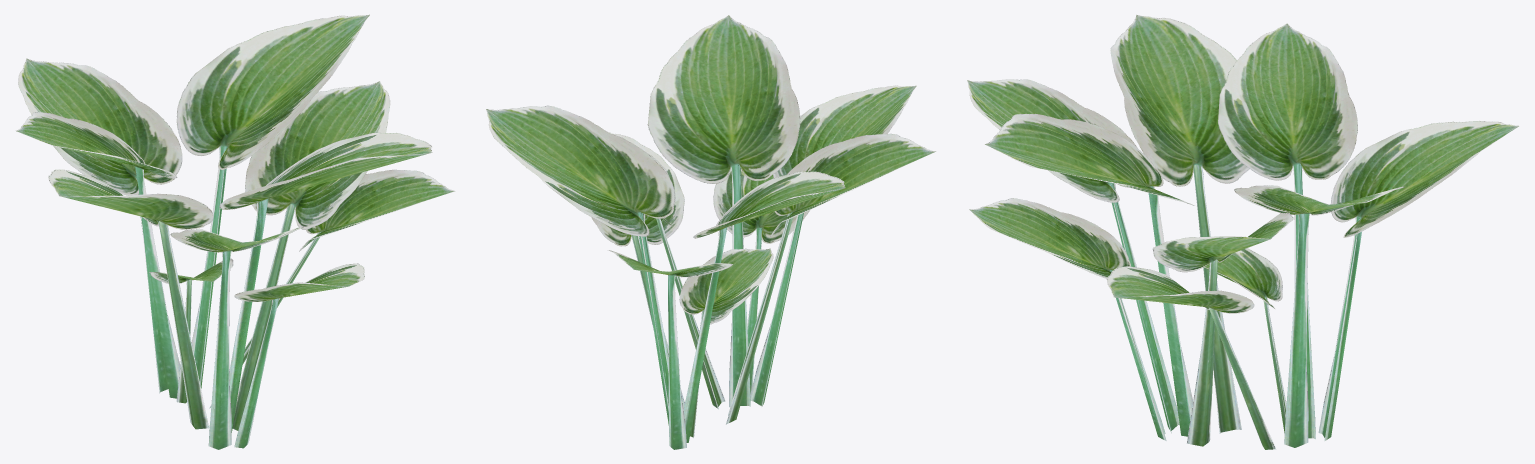
File: plant_small_wg_05G.fbx
3 renders of one model, left to right at view 1: azimuth 30°, elevation 25°; view 2: azimuth 150°, elevation 25°; view 3: azimuth 270°, elevation 25°, orthographic. The views are drawn at different scales.
Visible parts, largest first — view 1: plant_small_wg_05G; view 2: plant_small_wg_05G; view 3: plant_small_wg_05G.
Part boxes in pixels (left/top/right/bottom): plant_small_wg_05G: left=16, top=14, right=454, bottom=449; plant_small_wg_05G: left=486, top=15, right=935, bottom=449; plant_small_wg_05G: left=967, top=15, right=1518, bottom=449.
Size of the model in its own units: 51.79 by 40.78 by 58.62.
